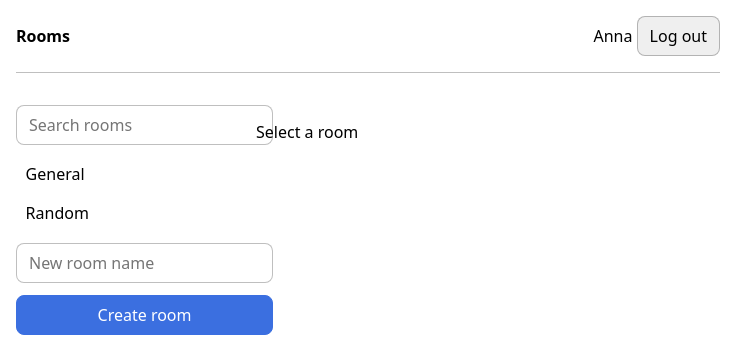
Test: RoomsLayout › lists the rooms and filters them with the search box
Expected: the link "General" is shown, [26,163,85,185]
Expected: the link "Random" is shown, [26,202,89,224]
Type "rand" into the search field labelled "Search rooms".
click(144, 125); type("rand")  # box [16,105,273,145]
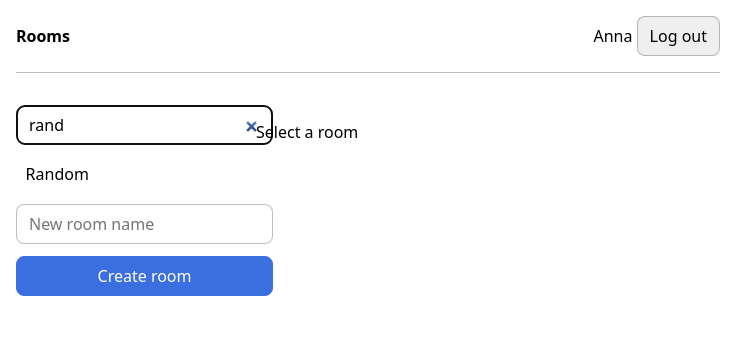
Expected: the link "Random" is shown, [26,163,89,185]
Expected: the link "General" is gone
